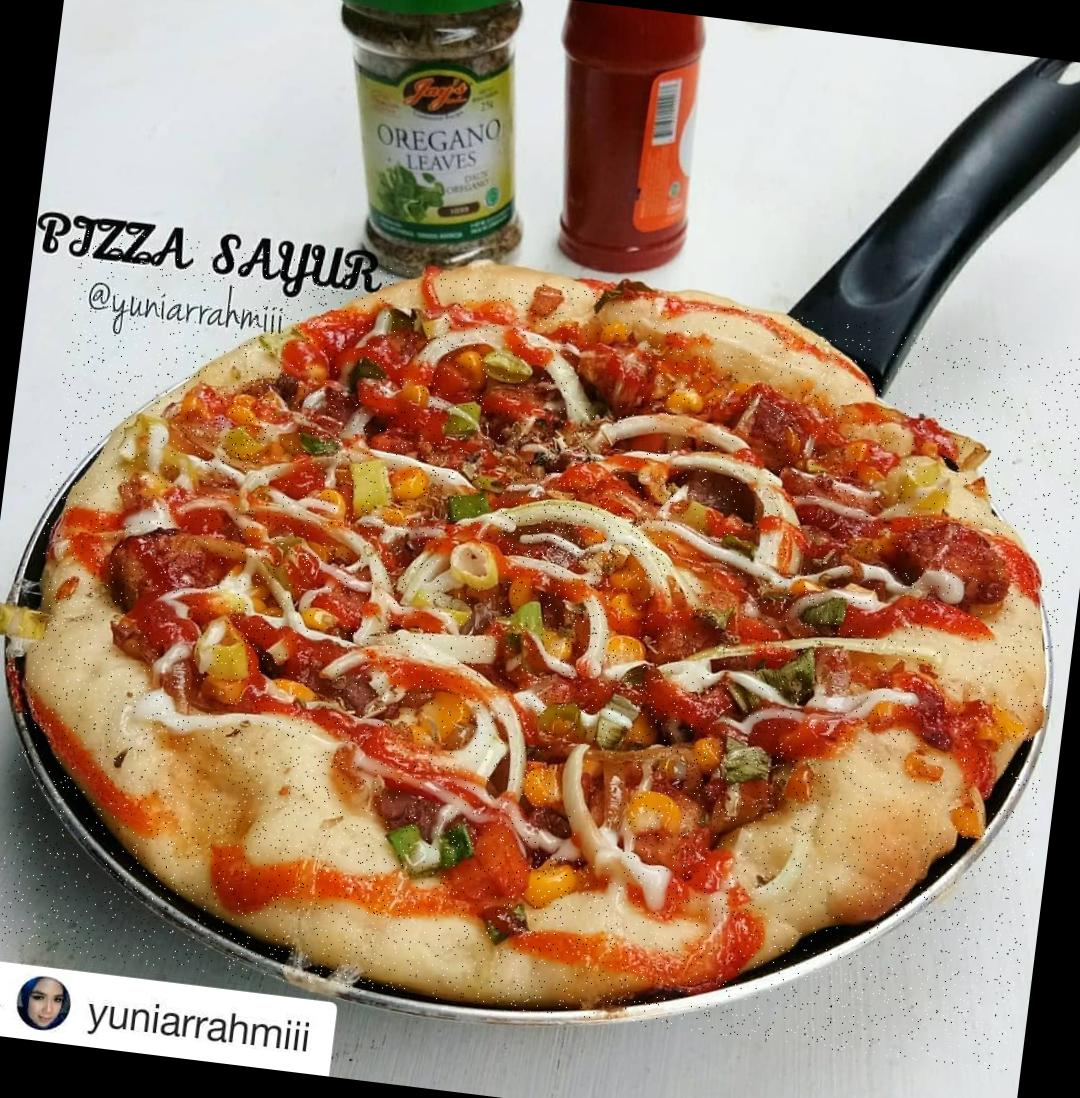Corn: (200, 628, 264, 704), (216, 394, 275, 468), (440, 532, 508, 590), (294, 590, 347, 654), (528, 852, 584, 909), (631, 784, 688, 834), (771, 752, 820, 803), (520, 764, 562, 803), (686, 741, 727, 770)
Onion: (500, 470, 678, 582), (609, 406, 792, 511), (360, 614, 514, 705), (536, 740, 634, 874), (538, 566, 626, 664), (334, 433, 472, 494), (437, 688, 529, 779), (422, 315, 503, 380)
Pizza: (0, 226, 1080, 1071)
Tomatoes: (296, 308, 421, 425), (95, 584, 226, 676), (637, 672, 730, 739), (736, 385, 821, 450), (922, 538, 1010, 596), (576, 342, 646, 408)
